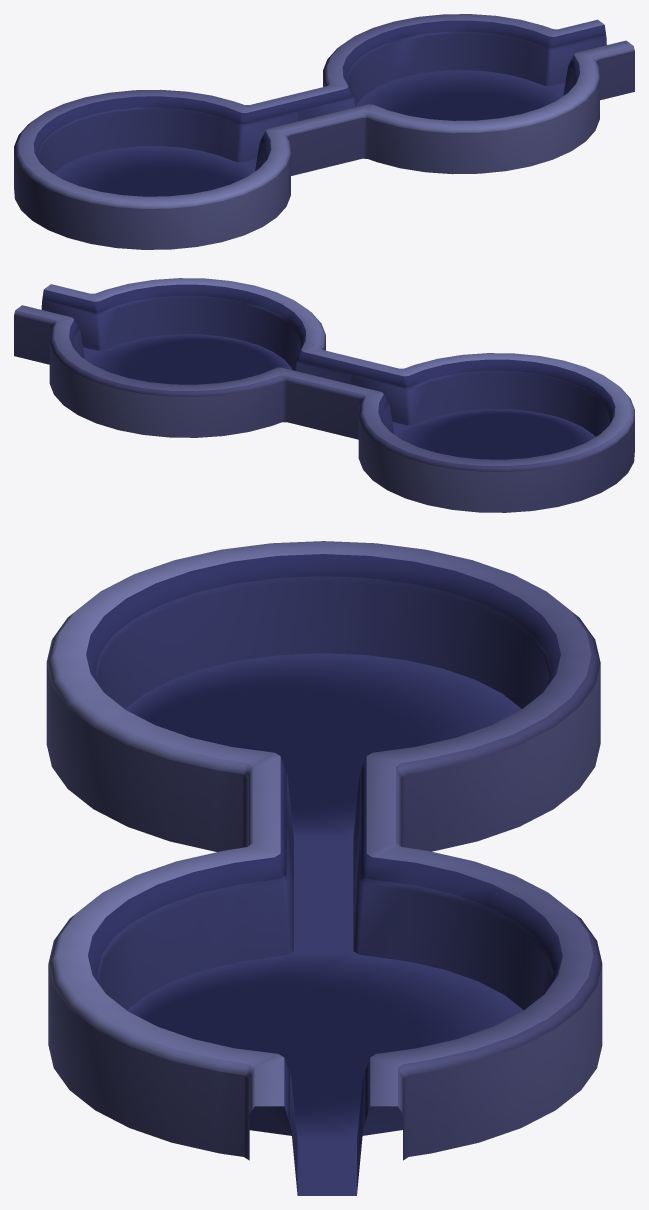
The model's file is Sliding_tube.fbx.
3 renders of one model, top to bottom at view 1: azimuth 30°, elevation 25°; view 2: azimuth 150°, elevation 25°; view 3: azimuth 270°, elevation 25°, orthographic. The views are drawn at different scales.
Visible parts, largest first — view 1: Sliding_tube; view 2: Sliding_tube; view 3: Sliding_tube.
Boxes of the visible parts, x1=… form: Sliding_tube: x1=14, y1=14, x2=634, y2=249; Sliding_tube: x1=14, y1=278, x2=634, y2=512; Sliding_tube: x1=46, y1=541, x2=602, y2=1195.
Size of the model in its own units: 14.4 by 1.06 by 5.95.
